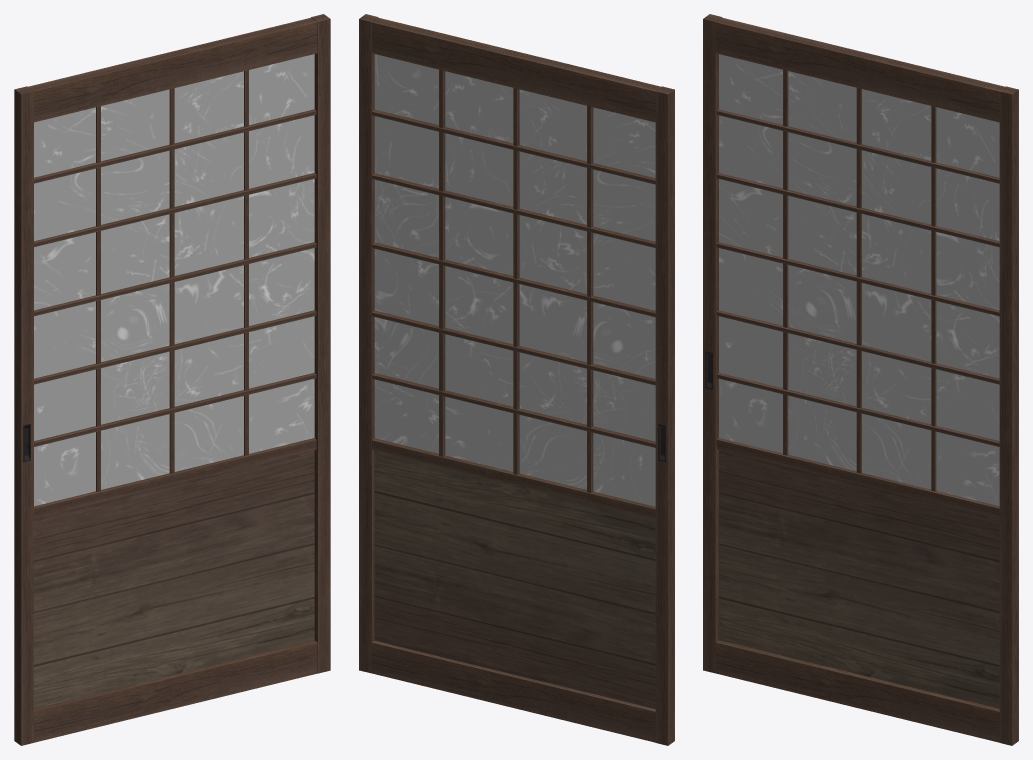
The model's file is hikido03cr.fbx.
3 views of the same model, side by side, from view 1: azimuth 30°, elevation 25°; view 2: azimuth 150°, elevation 25°; view 3: azimuth 330°, elevation 25° (orthographic).
Parts seen in each view (by area): view 1: hikido03cr; view 2: hikido03cr; view 3: hikido03cr.
Part boxes in pixels (x1,y1,x2,y2): hikido03cr: [14, 14, 330, 745]; hikido03cr: [359, 14, 674, 745]; hikido03cr: [703, 14, 1018, 745].
Size of the model in its own units: 110 by 221 by 4.25.
